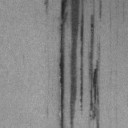slag inclusion: (57, 0, 86, 128), (87, 0, 103, 128), (44, 0, 50, 16)
